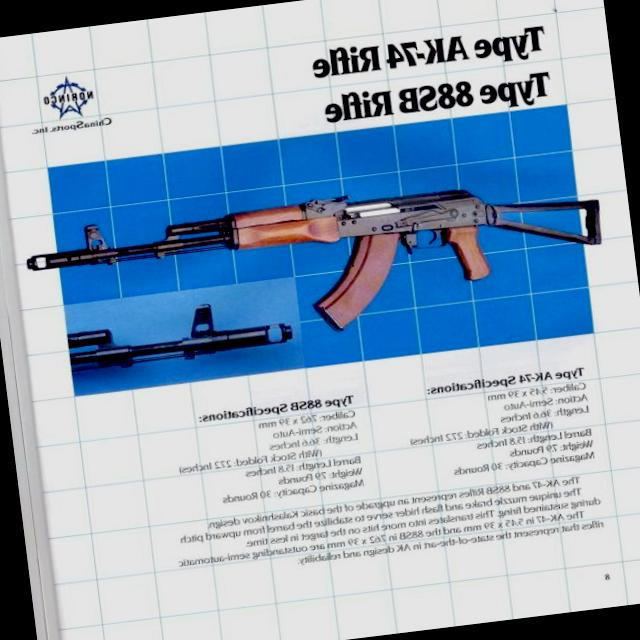ak: (6, 152, 609, 372)
